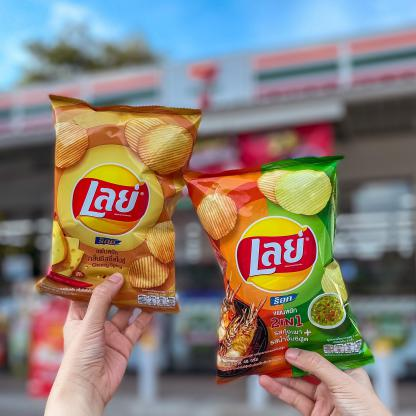potatochip: (165, 148, 381, 389), (27, 87, 208, 322)
